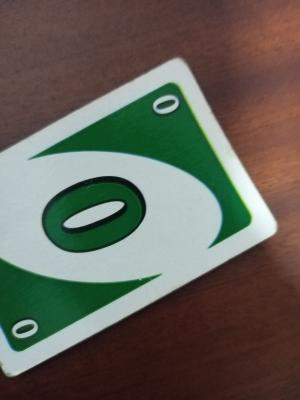num_0: (12, 175, 166, 254), (5, 308, 48, 348), (152, 93, 189, 126)
